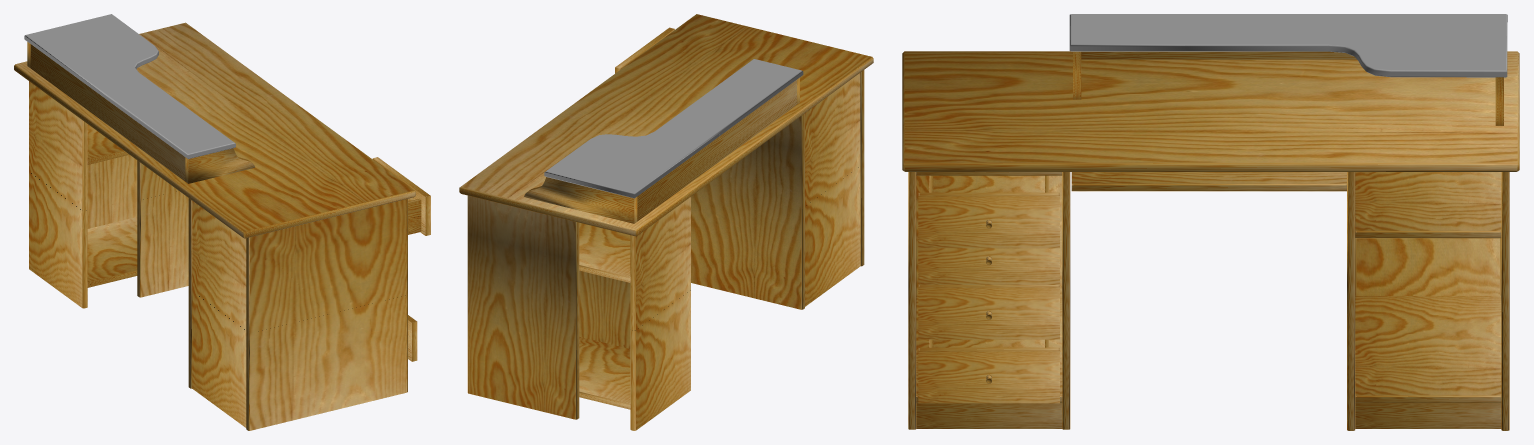
Rendered from stul.obj.
3 views of the same model, side by side, from view 1: azimuth 30°, elevation 25°; view 2: azimuth 150°, elevation 25°; view 3: azimuth 270°, elevation 25° (orthographic). The views are drawn at different scales.
Parts seen in each view (by area): view 1: Box02, Box01, Box05, Line03, Box04, Box30, Box06, Box31, Box29, Line01, Box07, Box09 (+1 smaller); view 2: Box01, Box29, Box02, Box05, Line03, Box04, Box06, Box31, Box30, Line02, Box07; view 3: Box01, Box06, Line03, Box05, Box23, Box07, Box18, Box03, Box13, Box02, Box27, Box28 (+6 smaller).
Part boxes in pixels (<box>): Box02: <box>188,198,407,430</box>; Box01: <box>14,22,415,238</box>; Box05: <box>29,81,87,308</box>; Line03: <box>24,14,235,159</box>; Box04: <box>192,201,246,427</box>; Box30: <box>137,160,188,297</box>; Box06: <box>87,124,137,287</box>; Box31: <box>30,44,185,181</box>; Box29: <box>87,155,137,228</box>; Line01: <box>185,148,254,183</box>; Box07: <box>372,157,430,235</box>; Box09: <box>408,198,421,234</box>; Box01: <box>459,14,873,236</box>; Box29: <box>467,195,579,419</box>; Box02: <box>691,70,864,309</box>; Box05: <box>630,197,690,430</box>; Line03: <box>544,59,803,198</box>; Box04: <box>805,73,860,306</box>; Box06: <box>579,223,630,409</box>; Box31: <box>637,80,796,221</box>; Box30: <box>579,270,630,348</box>; Line02: <box>524,177,637,223</box>; Box07: <box>615,27,674,73</box>; Box01: <box>902,51,1519,171</box>; Box06: <box>916,172,1501,402</box>; Line03: <box>1069,14,1507,77</box>; Box05: <box>1355,238,1501,295</box>; Box23: <box>918,347,1059,403</box>; Box07: <box>918,192,1059,248</box>; Box18: <box>918,285,1059,339</box>; Box03: <box>1071,172,1346,191</box>; Box13: <box>918,248,1059,284</box>; Box02: <box>908,172,1070,429</box>; Box27: <box>1355,402,1501,428</box>; Box28: <box>916,402,1062,428</box>.
Bounding box in the file's own units: 74.62 × 83.6 × 150.
